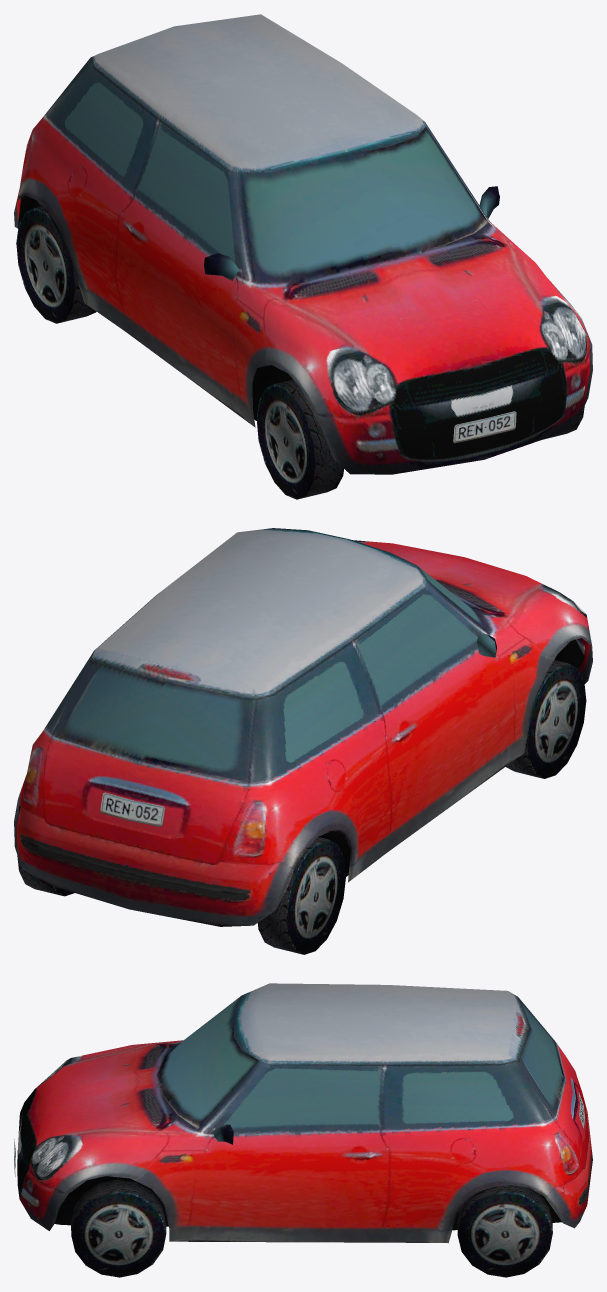
Rendered from VH_Mini.obj.
3 views of the same model, one above another, from view 1: azimuth 30°, elevation 25°; view 2: azimuth 150°, elevation 25°; view 3: azimuth 270°, elevation 25° (orthographic). The views are drawn at different scales.
Parts seen in each view (by area): view 1: VH_Mini; view 2: VH_Mini; view 3: VH_Mini.
Boxes of the visible parts, x1,y1,x2,y2 form: VH_Mini: [14, 14, 592, 499]; VH_Mini: [14, 528, 592, 954]; VH_Mini: [14, 983, 592, 1277].
Bounding box in the file's own units: 0.6436 × 0.5486 × 1.36.
Materials: 1 (1 with a texture image).
